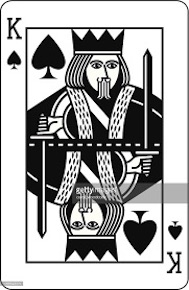KingOfSpades: (1, 1, 189, 288)
